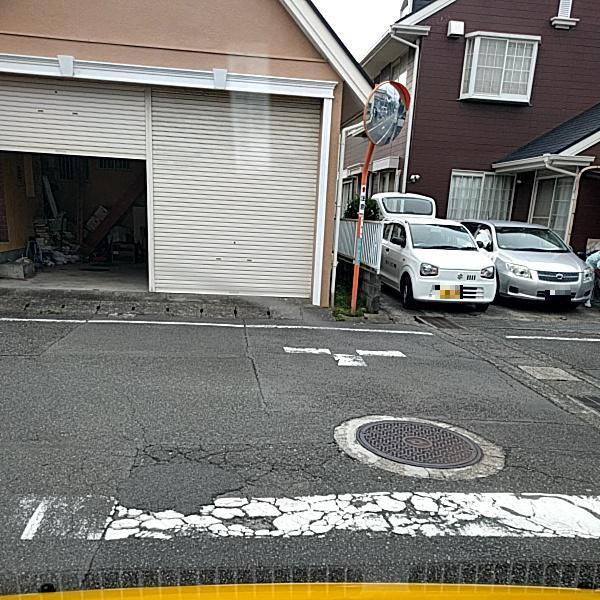D20: (124, 430, 340, 491)
D44: (15, 489, 595, 544)
D50: (345, 410, 494, 475)
